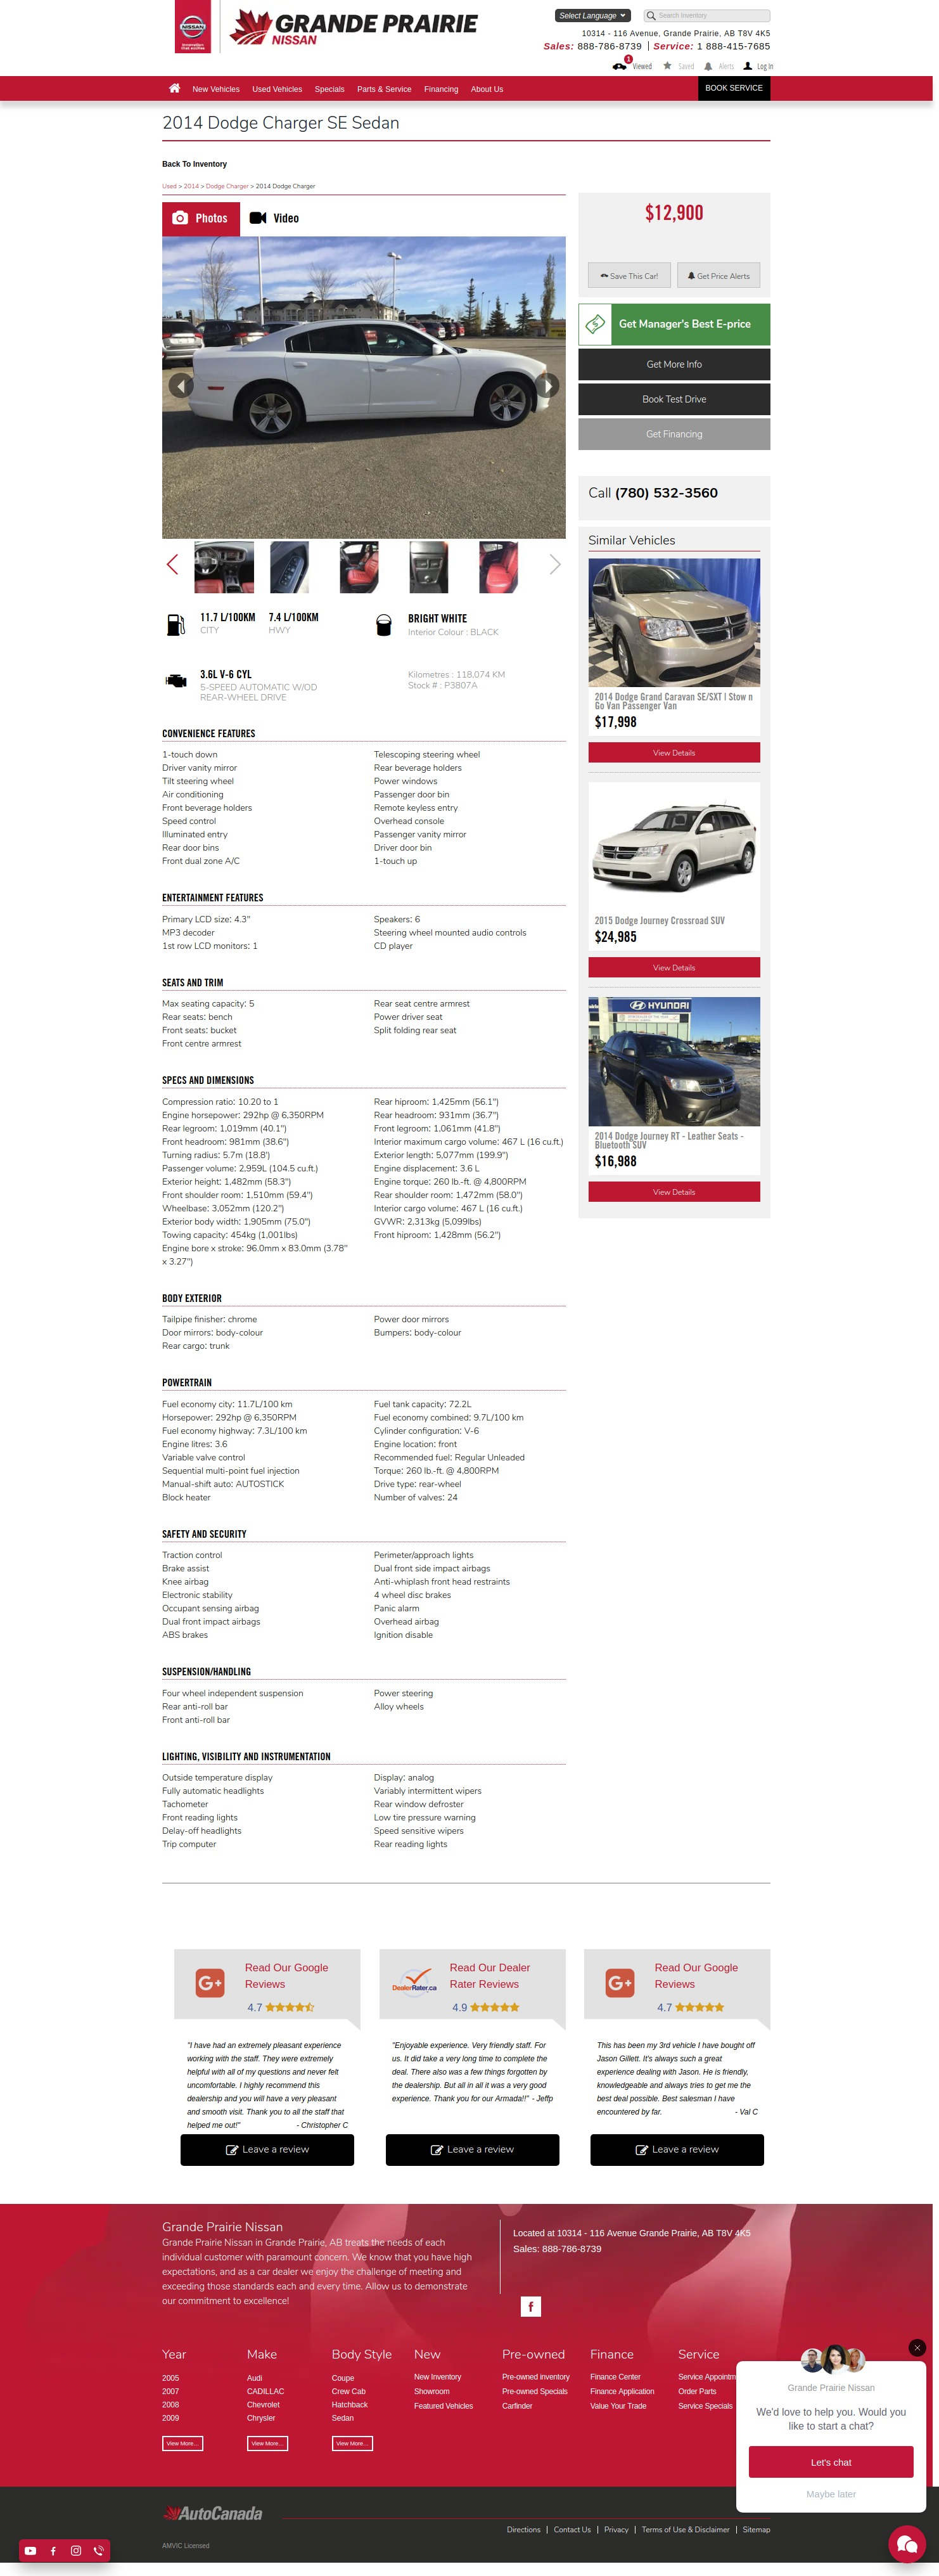car: (550, 555, 561, 575)
